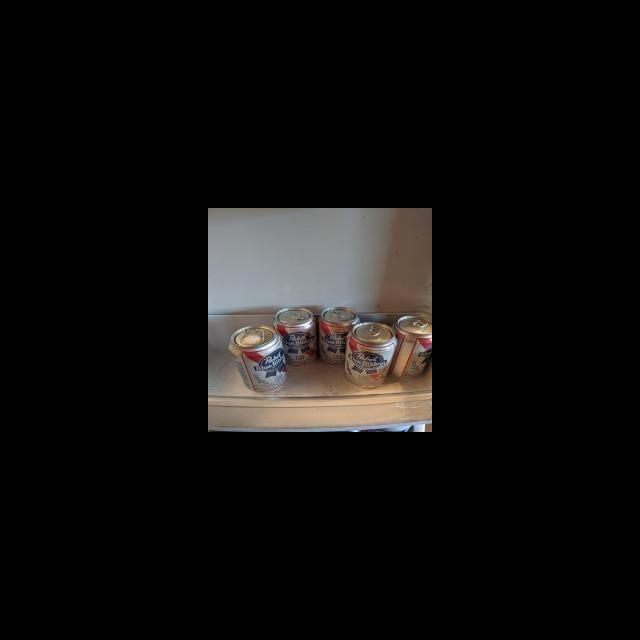metal: (228, 320, 290, 397), (344, 320, 397, 388), (277, 299, 319, 369), (395, 311, 432, 382), (321, 302, 360, 368)
